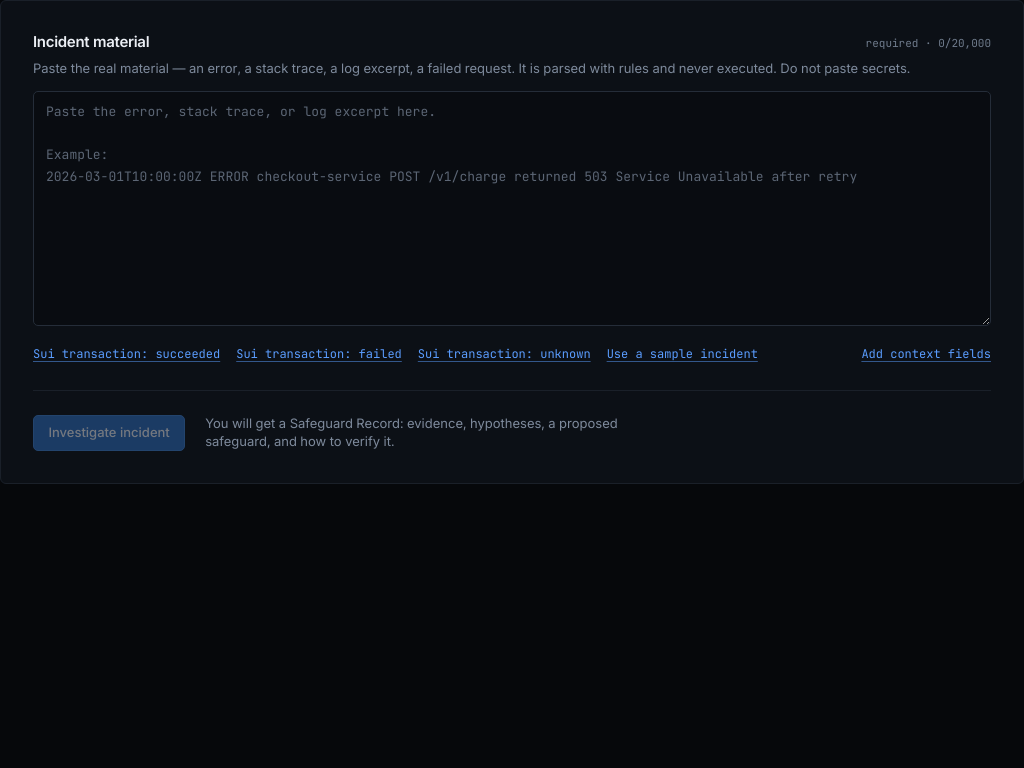
Test case: public investigation workspace › applies a sample's context fields so the sample reproduces a record
Check: the text box labelled "Incident material" is shown, box [33, 91, 991, 326]
What coordinates should you click on to do the following:
click the button "Sui transaction: failed"
I would click on:
 (319, 354)
Its box is [236, 342, 402, 366].
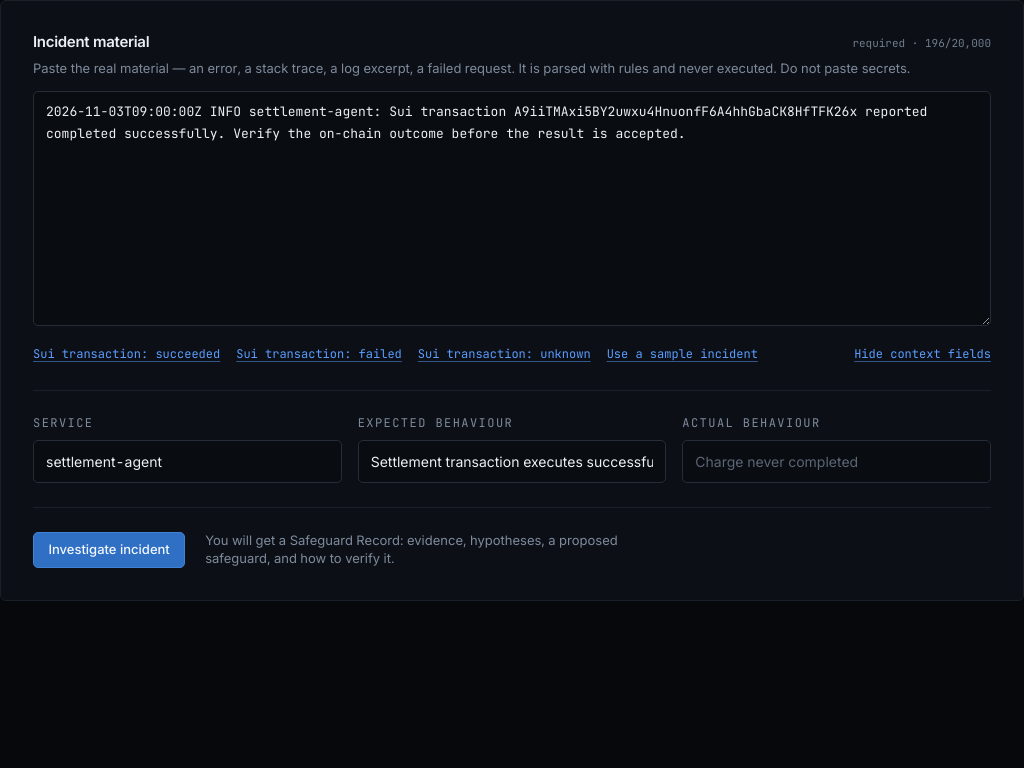
Check: the field labelled "Service" holds "settlement-agent", box [33, 440, 342, 483]
Check: the field labelled "Expected behaviour" holds "Settlement transaction executes successfully", box [358, 440, 666, 483]
